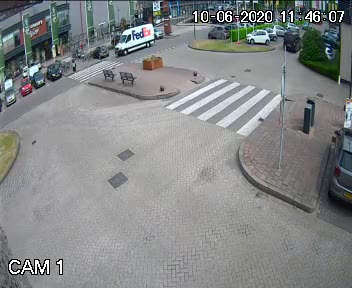car: (110, 23, 156, 58), (283, 31, 298, 56)
